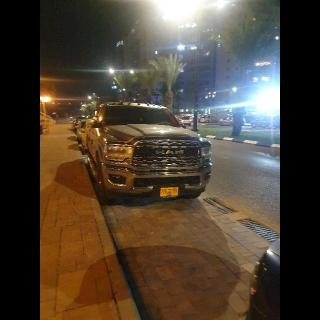LicensePlate: (161, 188, 178, 194)
